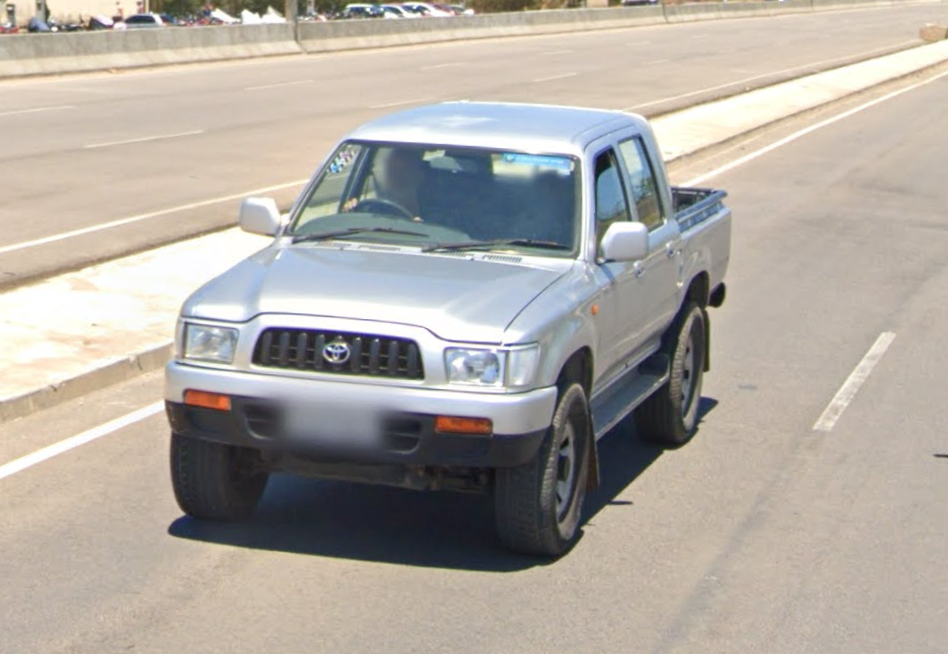car: (158, 93, 735, 560)
